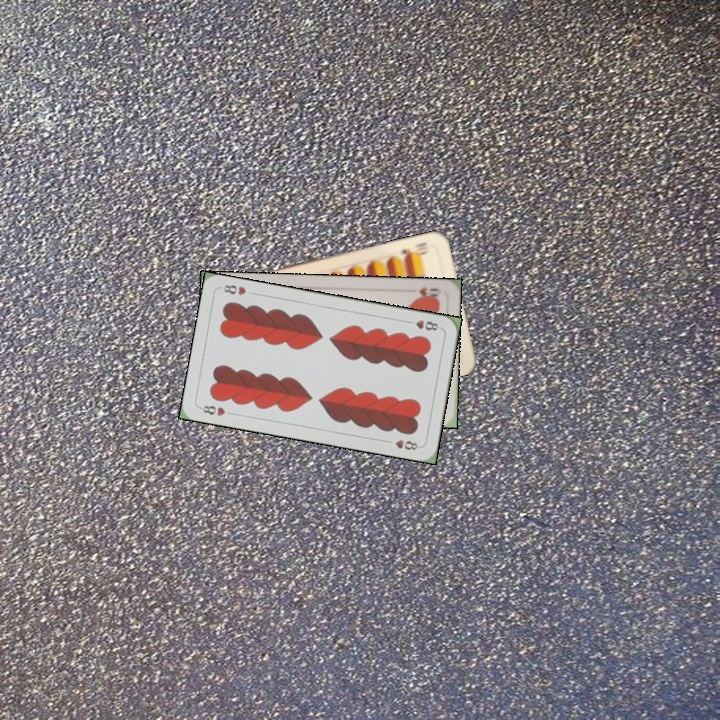E10: (396, 238, 431, 261)
H8: (403, 316, 443, 333), (196, 401, 228, 419)
HO: (411, 283, 444, 301)
